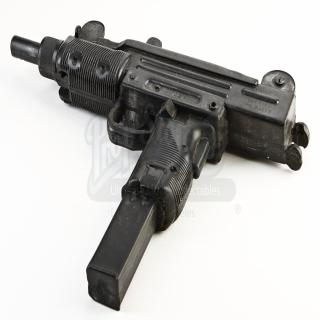gun: (6, 18, 314, 306)
